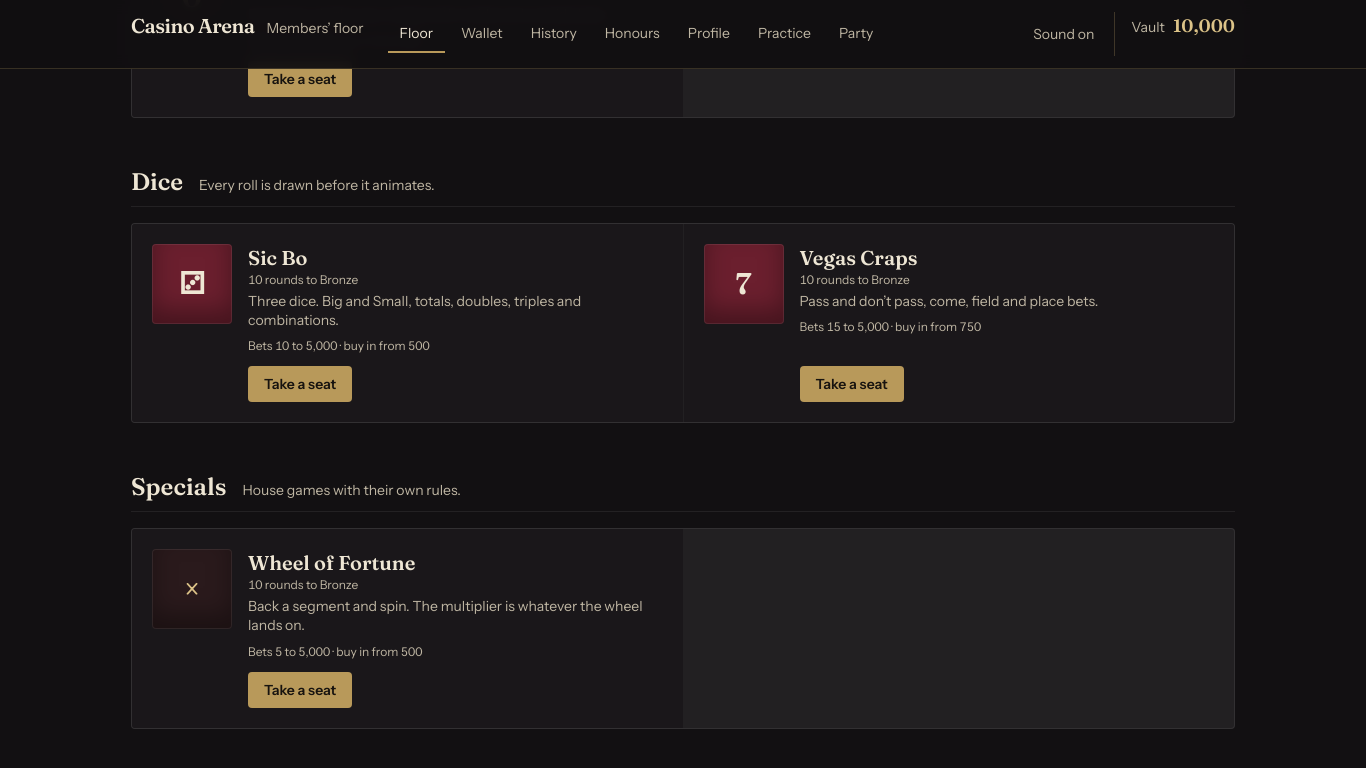
Scenario: buy-in › states the shortfall instead of silently reducing a buy-in
(page scrolled)
Click the button with aria-label "enter sic bo": [300, 384] box [248, 366, 352, 402]
(page scrolled)
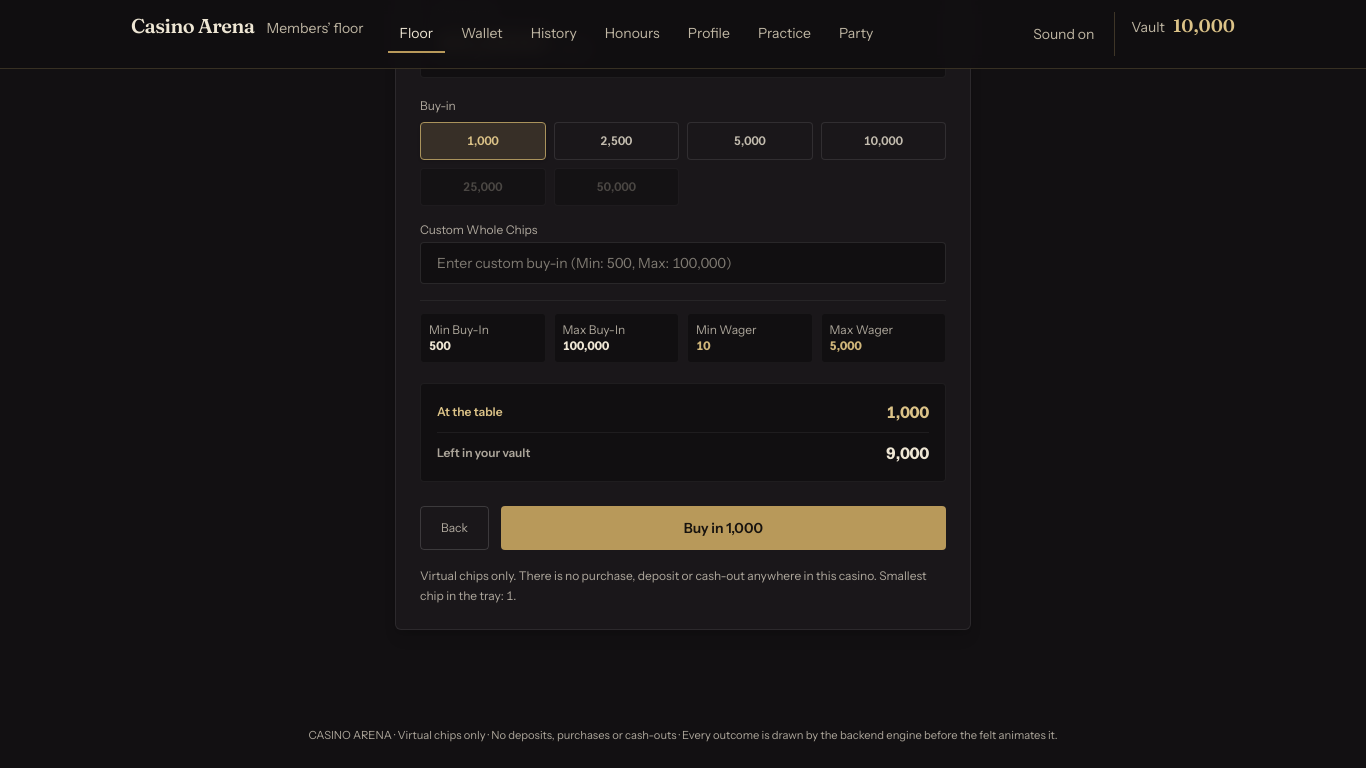
Expected: the button "Buy in 1,000" is shown, [501, 506, 946, 550]
Expected: the button "50,000" is shown, [554, 168, 679, 206]
